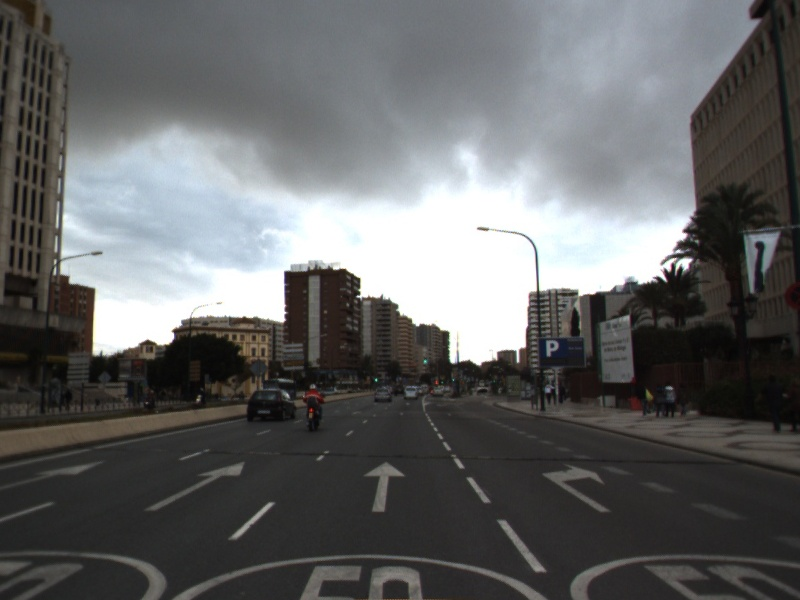RIGHT: (540, 461, 615, 514)
STRAIGHT: (141, 460, 247, 513), (1, 459, 106, 490), (361, 459, 407, 514)
